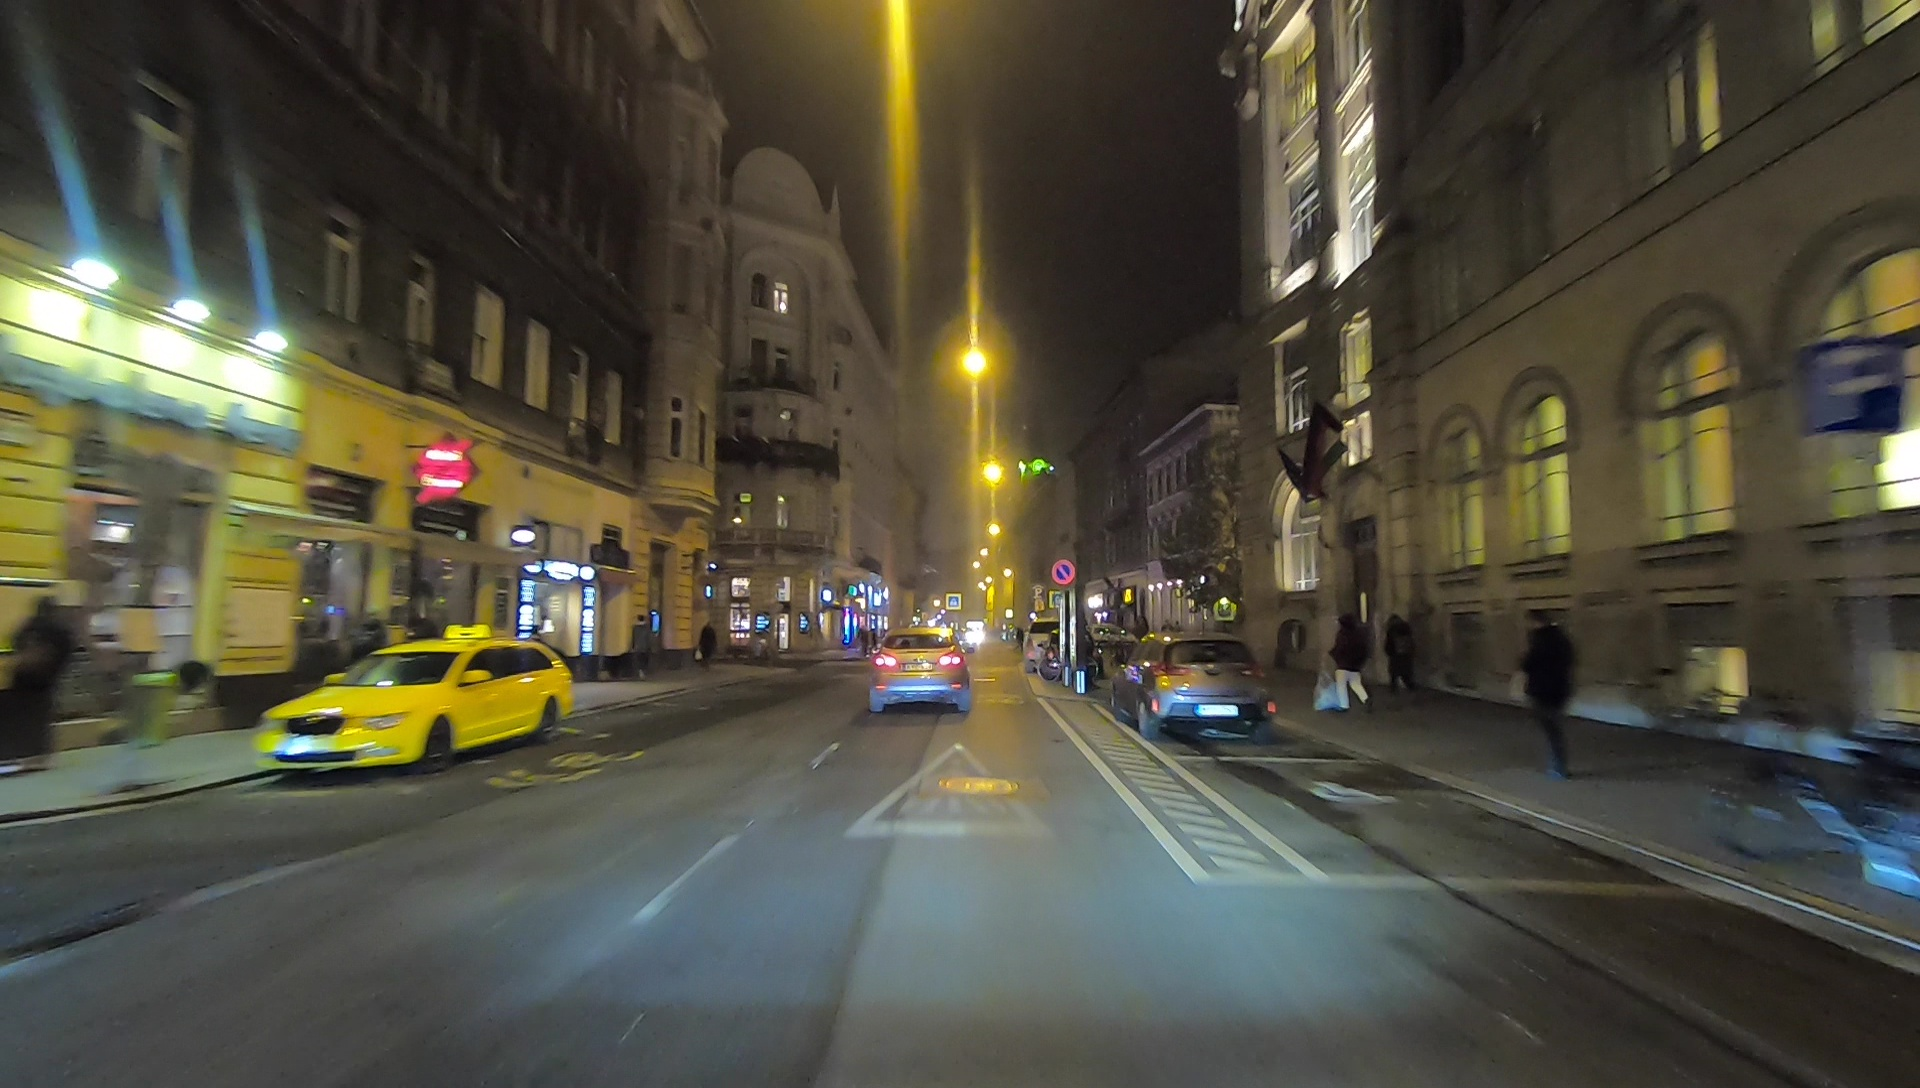person: (10, 593, 65, 771), (1526, 619, 1571, 771), (1332, 610, 1365, 717), (304, 623, 336, 715), (1386, 617, 1408, 684), (630, 610, 647, 674), (699, 623, 717, 665)
